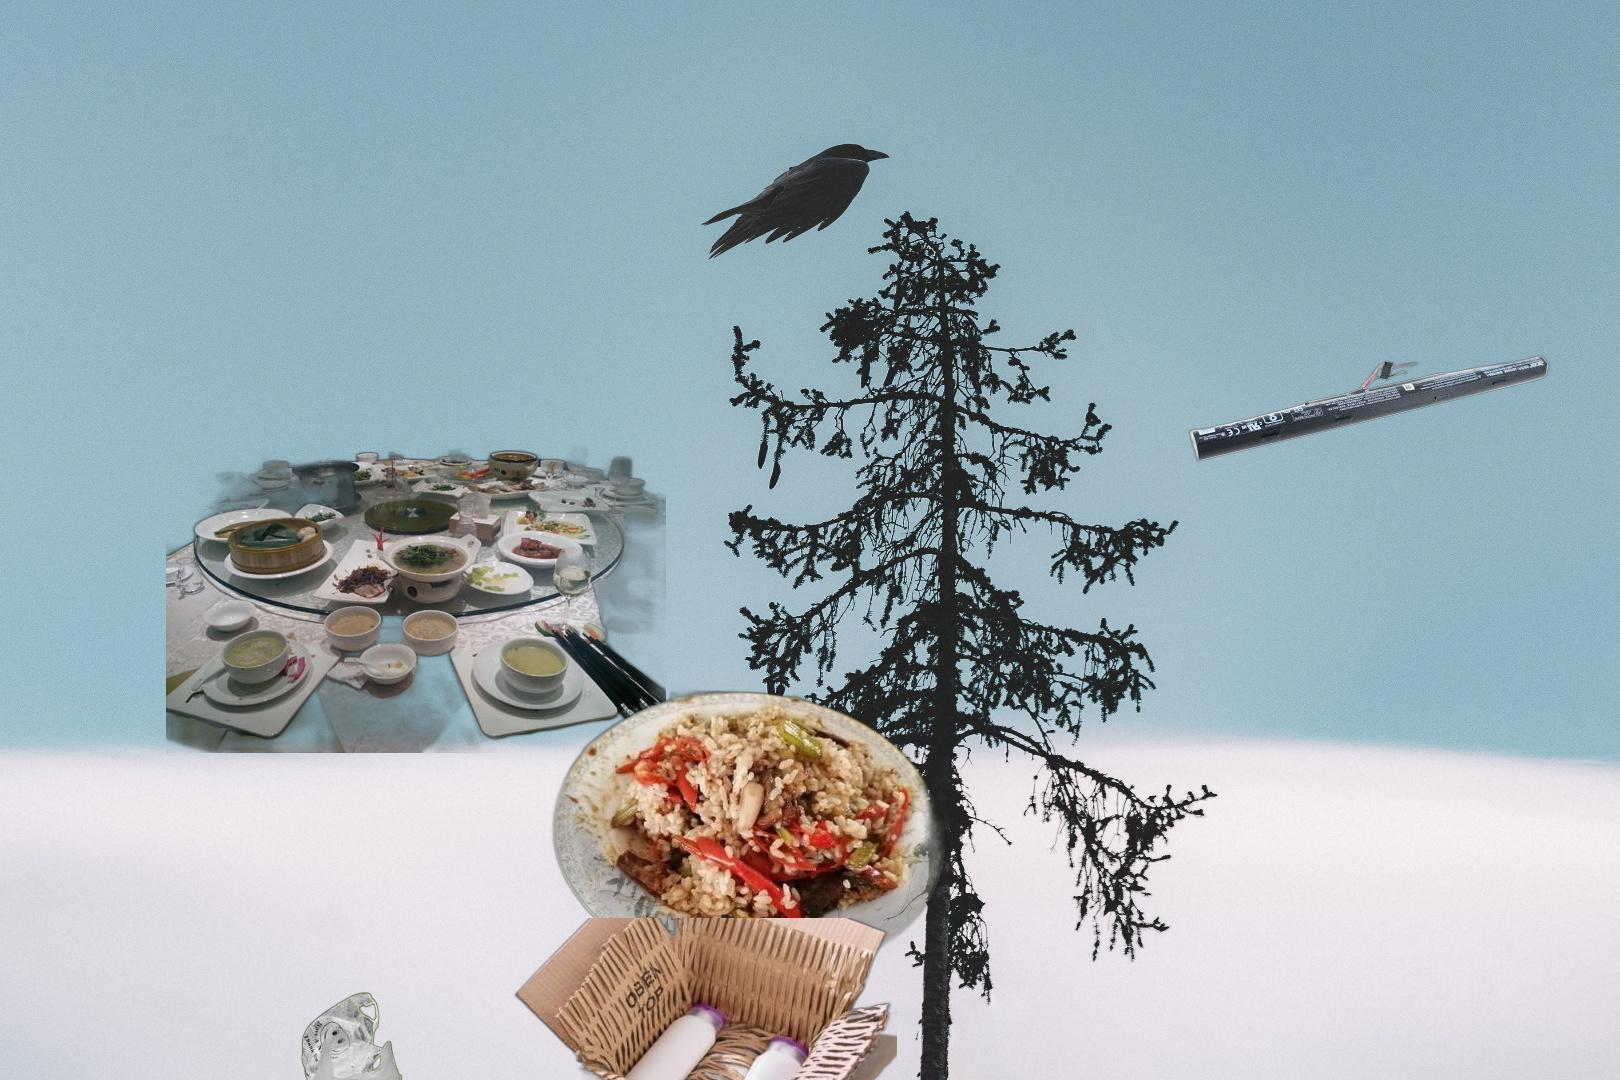battery: (1182, 353, 1552, 481)
biological: (166, 385, 667, 753), (548, 683, 970, 992)
plastic-bag: (300, 990, 483, 1080)
trashbox-cardboard: (510, 918, 897, 1080)
